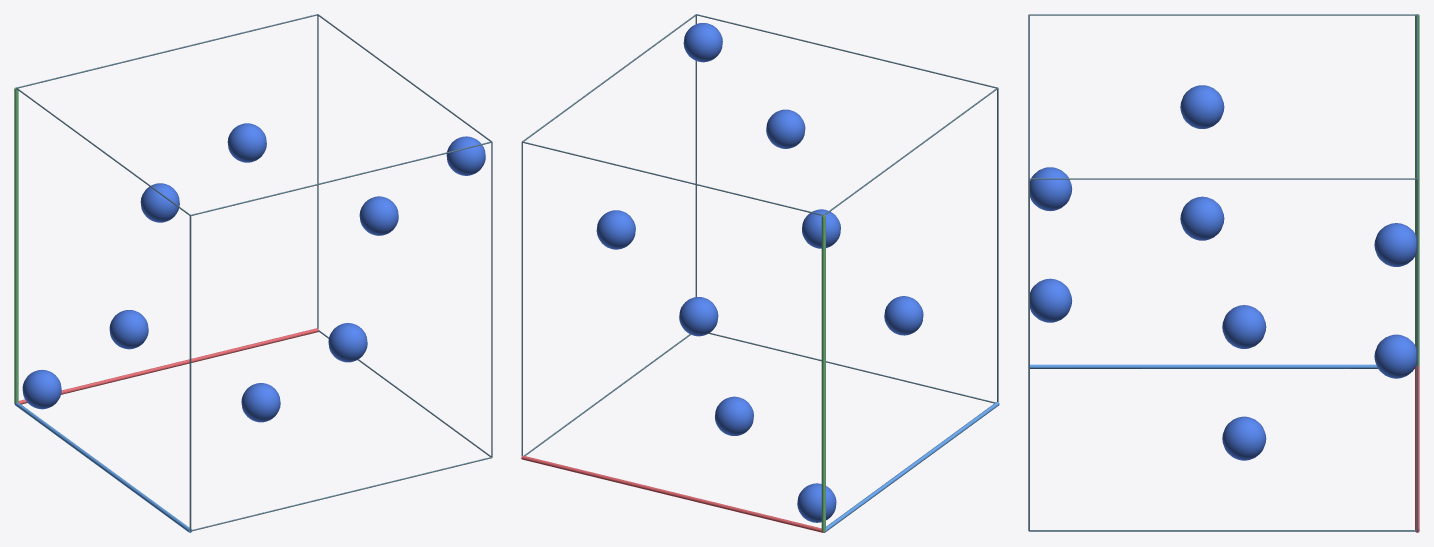
Rendered from chat-solid-nitrogen-alpha.glb.
The picture shows the model from 3 angles, left to right: view 1: azimuth 30°, elevation 25°; view 2: azimuth 150°, elevation 25°; view 3: azimuth 270°, elevation 25°; orthographic projection. The views are drawn at different scales.
Visible parts, largest first — view 1: N2 · N · 1 (×8), Ô mạng và các trục a, b, c; view 2: N2 · N · 1 (×8), Ô mạng và các trục a, b, c; view 3: N2 · N · 1 (×8), Ô mạng và các trục a, b, c.
Part boxes in pixels (x1,y1,x2,y2): N2 · N · 1 (×8): [22, 123, 485, 422]; Ô mạng và các trục a, b, c: [14, 14, 492, 532]; N2 · N · 1 (×8): [596, 23, 923, 522]; Ô mạng và các trục a, b, c: [521, 14, 999, 532]; N2 · N · 1 (×8): [1030, 85, 1416, 460]; Ô mạng và các trục a, b, c: [1028, 14, 1419, 532].
Size of the model in its own units: 5.69 by 5.69 by 5.69.
